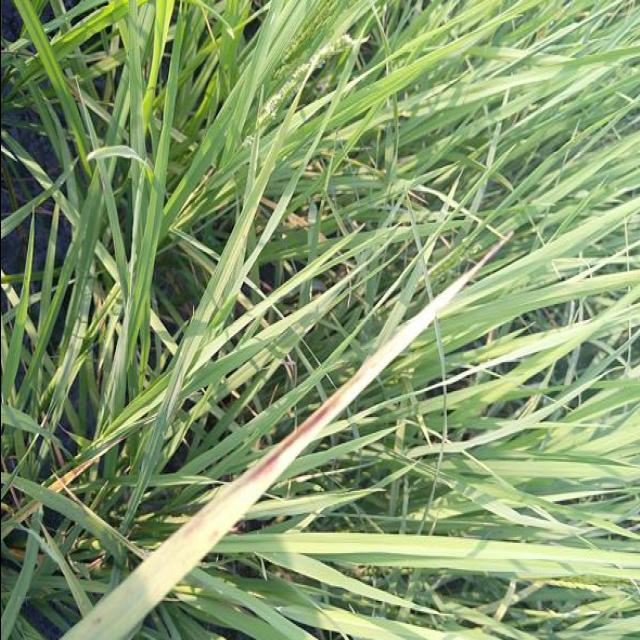Leaf Blight: (251, 287, 457, 502)
